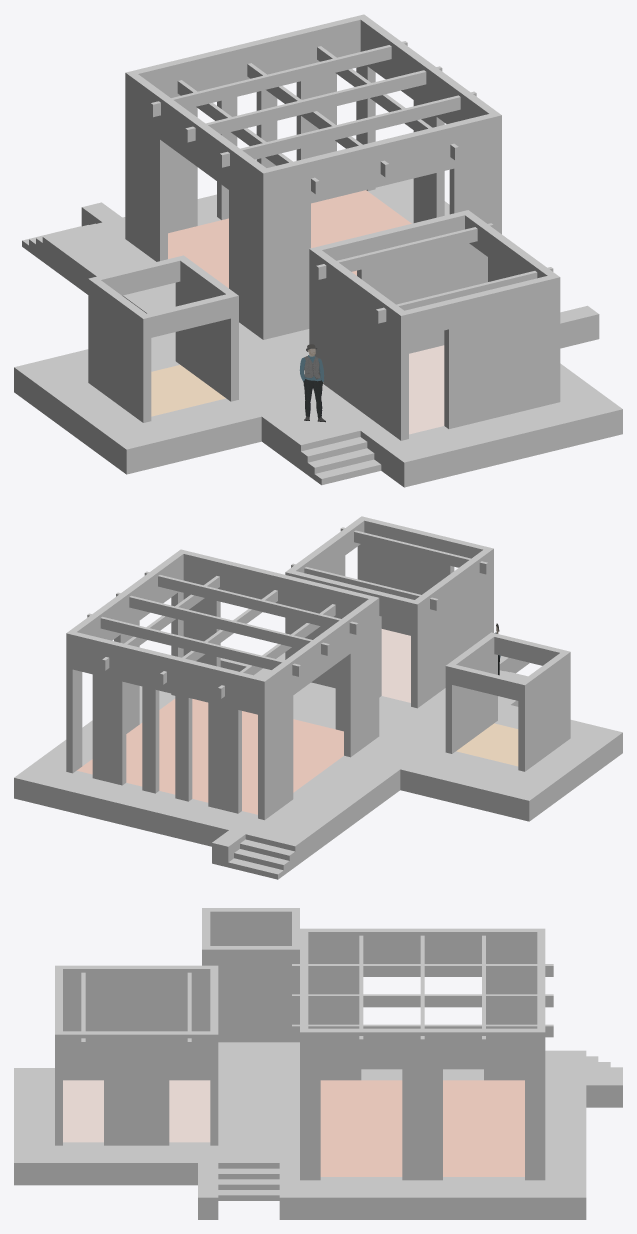
3 views of the same model, one above another, from view 1: azimuth 30°, elevation 25°; view 2: azimuth 150°, elevation 25°; view 3: azimuth 270°, elevation 25° (orthographic). The views are drawn at different scales.
Visible parts, largest first — view 1: Geom3D_ (×12), Geom3D (×3); view 2: Geom3D_ (×12), Geom3D (×3); view 3: Geom3D_ (×10), Geom3D (×2).
Part boxes in pixels (x1,y1,x2,y2): Geom3D_ (×12): (14, 14, 622, 487); Geom3D (×3): (151, 190, 444, 434); Geom3D_ (×12): (14, 516, 622, 879); Geom3D (×3): (77, 629, 518, 814); Geom3D_ (×10): (14, 908, 622, 1219); Geom3D (×2): (63, 1080, 524, 1176).
Bounding box in the file's own units: 12.4 × 4.6 × 14.9.
23 materials, 4 textured.
